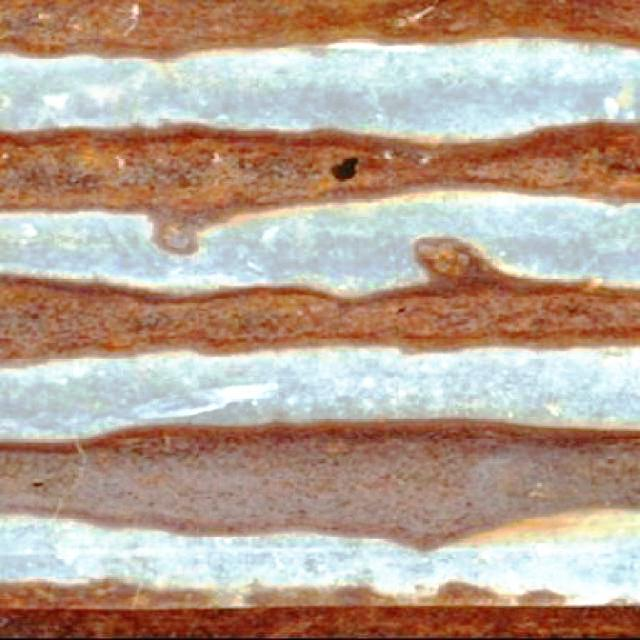Corrosion: (0, 422, 640, 551), (0, 238, 640, 366), (0, 122, 640, 218), (0, 580, 640, 640), (0, 0, 640, 58), (0, 144, 109, 211), (414, 238, 509, 280), (152, 220, 197, 254)
